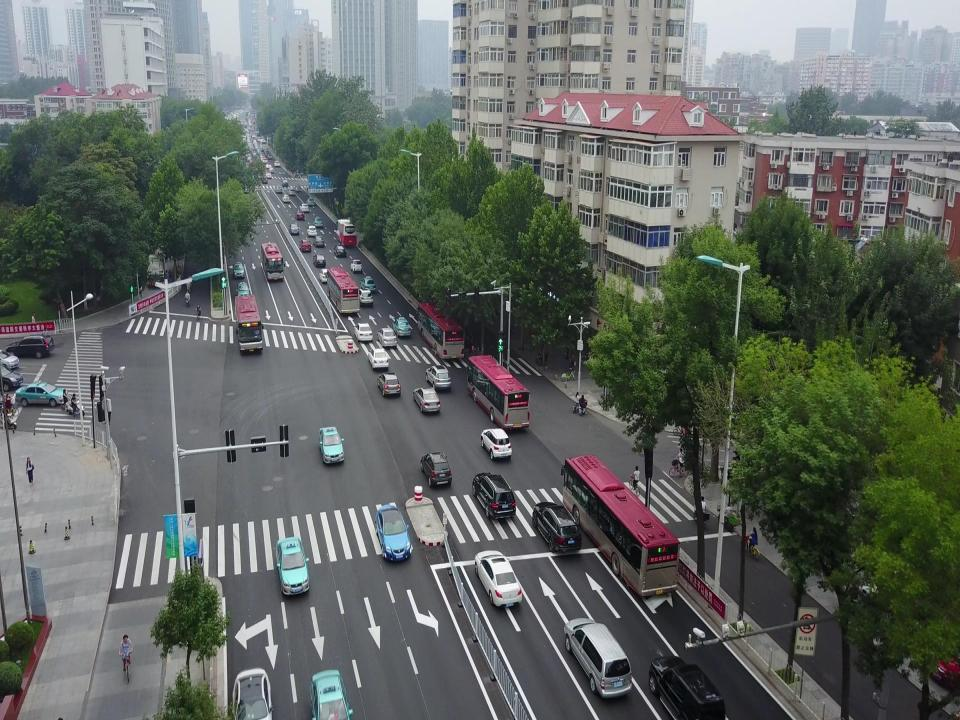bus: (561, 453, 682, 599), (466, 354, 530, 432), (417, 301, 465, 360), (234, 294, 264, 355), (326, 266, 360, 315), (260, 243, 285, 281), (336, 218, 358, 247)
car: (471, 548, 525, 607), (530, 501, 582, 554), (308, 666, 354, 720), (230, 666, 274, 720), (374, 503, 416, 559), (471, 470, 517, 520), (274, 537, 312, 595), (14, 381, 66, 408), (317, 424, 345, 465), (420, 451, 452, 486), (480, 426, 513, 459), (414, 386, 442, 413), (426, 364, 452, 391), (0, 363, 24, 392), (377, 371, 402, 396), (367, 346, 389, 369), (376, 327, 396, 348), (391, 317, 411, 338), (0, 349, 20, 369), (353, 322, 373, 341), (356, 287, 374, 305), (237, 280, 251, 301), (360, 276, 376, 291), (232, 260, 244, 280), (318, 268, 332, 283), (312, 253, 326, 267), (333, 243, 347, 257), (350, 259, 362, 272), (313, 235, 325, 248), (299, 239, 311, 251), (288, 223, 300, 234), (307, 225, 317, 235), (295, 210, 305, 220), (313, 216, 322, 227), (299, 203, 309, 212), (307, 197, 315, 206), (282, 194, 290, 203), (275, 185, 283, 194), (281, 179, 289, 187), (287, 188, 295, 195), (295, 184, 302, 192), (260, 177, 268, 184)
van: (563, 616, 635, 695), (648, 656, 728, 720), (4, 335, 54, 358)
